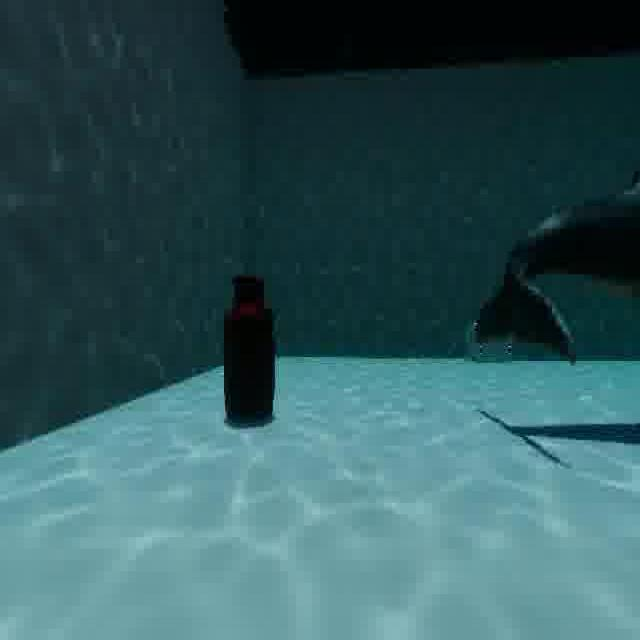Cylinder: (211, 262, 282, 440)
Docking Station: (460, 310, 523, 368)
Whale: (467, 159, 640, 373)
